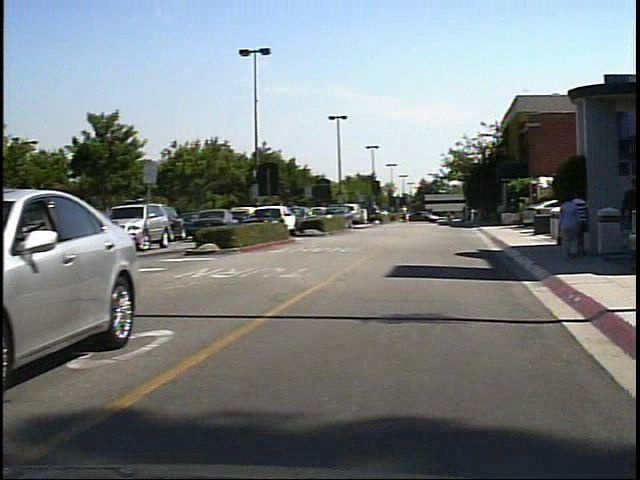person: (565, 191, 592, 265), (581, 190, 601, 259), (407, 203, 417, 224)
